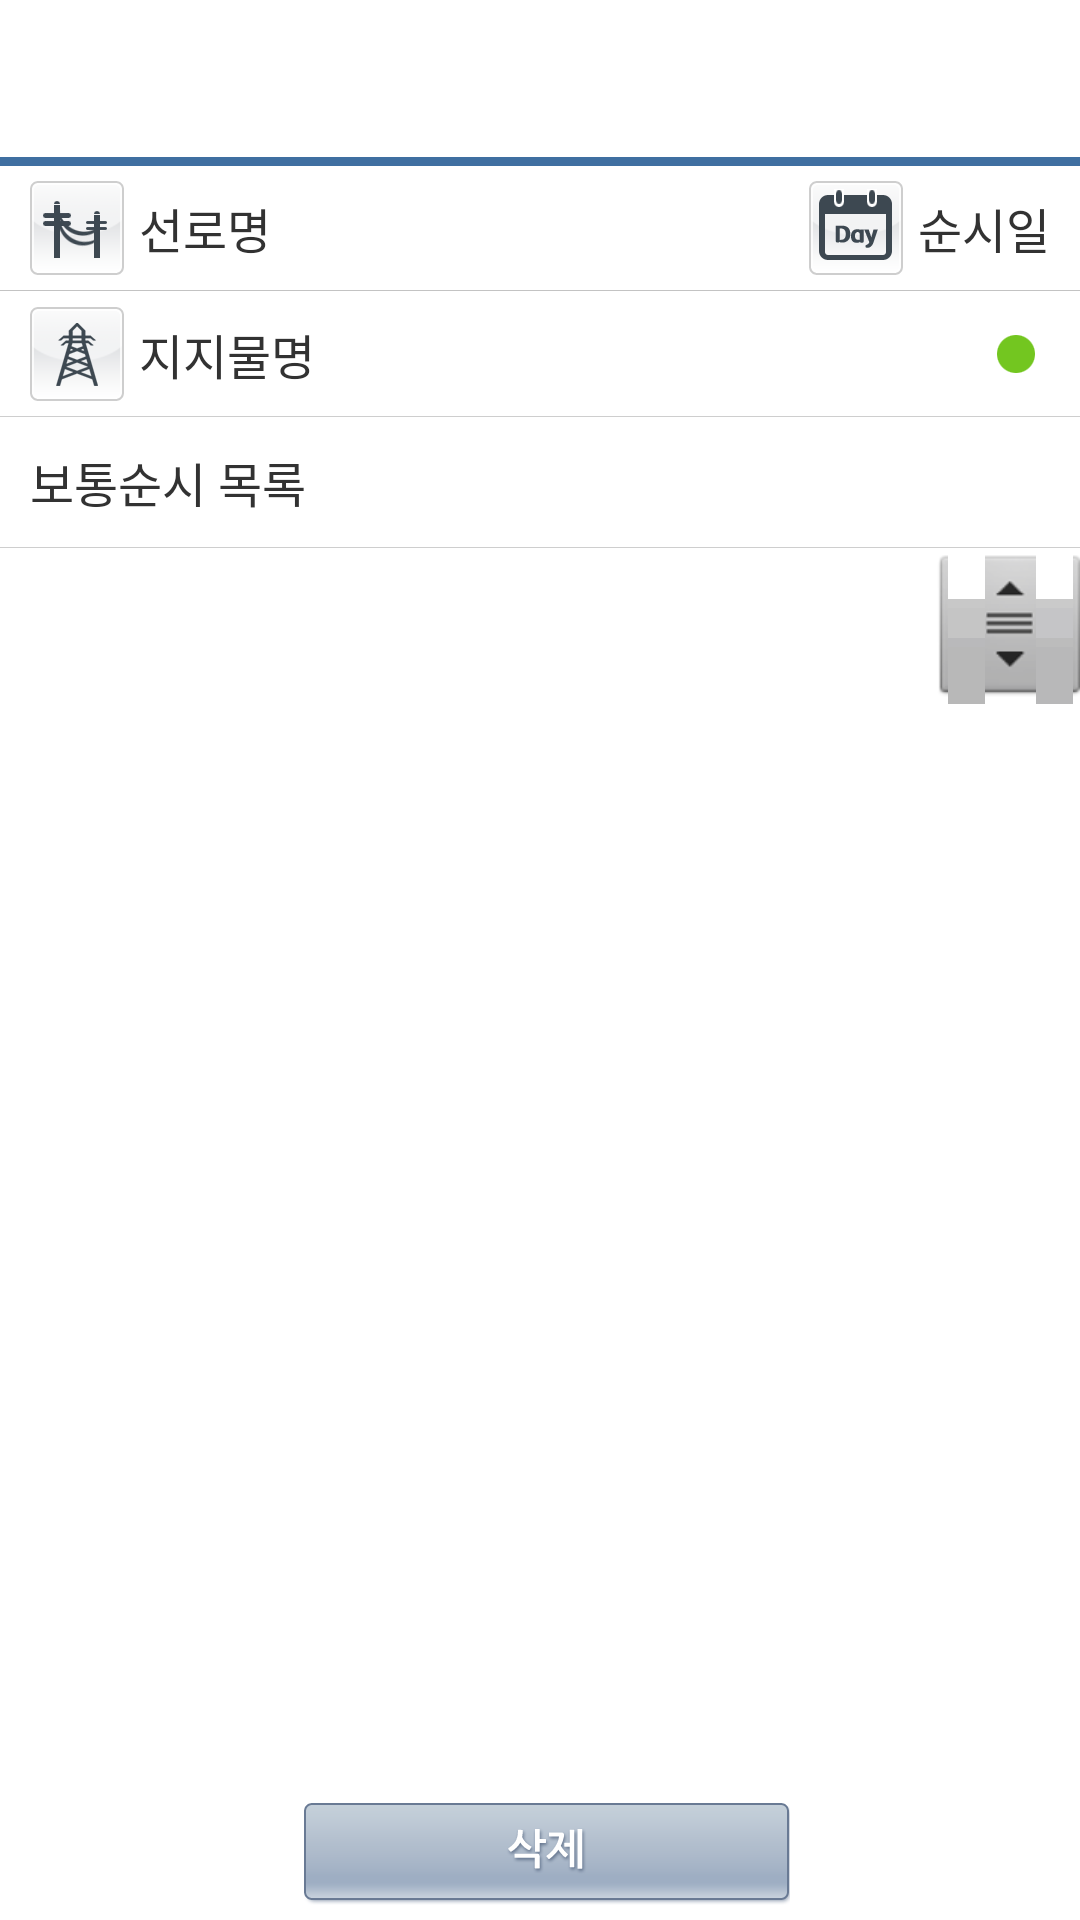

Screen size 1080x1920. Icon name, then its center in pixels as [x,y]:
box schedule: [856,228]
box tower: [77,354]
